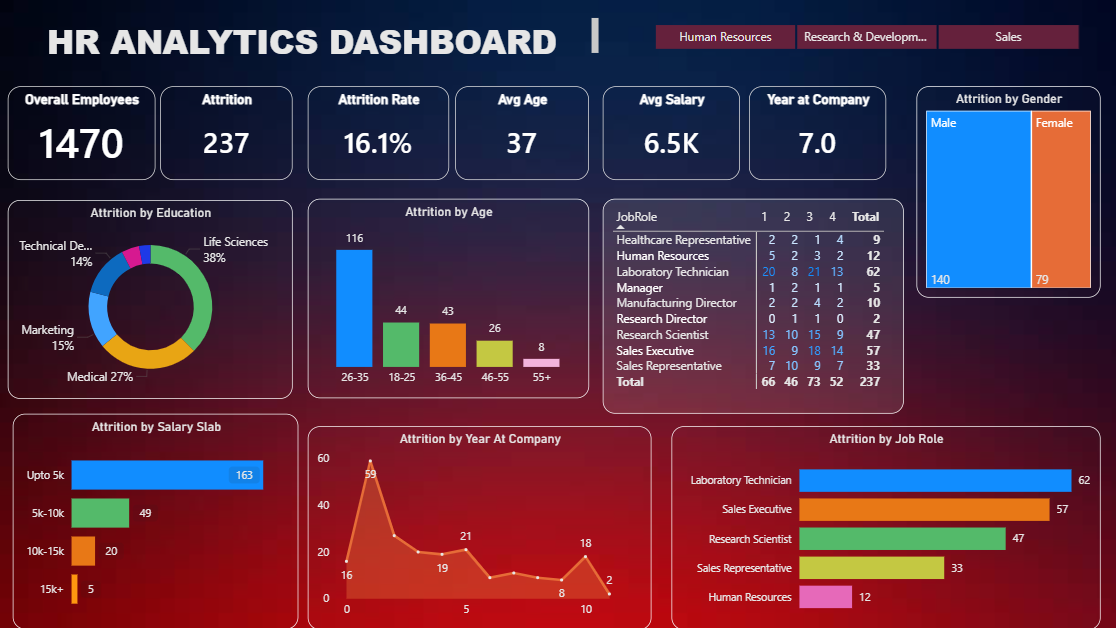

What the dashboard file says about the page in this screenshot:
{"tool":"powerbi","page":{"name":"Page 1","canvas":[1280,720],"ordinal":0},"visuals":[{"type":"cardVisual","title":"Overall Employees","fields":{"Data":["CountNonNull(HR_Analytics.EmpID)"]},"box":[10,98.6,168.6,107.1],"z":0},{"type":"cardVisual","title":"Attrition","fields":{"Data":["Sum(HR_Analytics.Attrition Count)"]},"box":[184.3,98.6,151.4,107.1],"z":1000},{"type":"cardVisual","title":"Avg Age","fields":{"Data":["Avg(HR_Analytics.Age)"]},"box":[521.4,98.6,152.9,107.1],"z":2000},{"type":"cardVisual","title":"Attrition Rate","fields":{"Data":["HR_Analytics.AttritionRate"]},"box":[352.9,98.6,161.4,107.1],"z":3000},{"type":"cardVisual","title":"Year at Company ","fields":{"Data":["Avg(HR_Analytics.YearsAtCompany)"]},"box":[857.1,98.6,157.1,107.1],"z":4000},{"type":"cardVisual","title":"Avg Salary","fields":{"Data":["Avg(HR_Analytics.MonthlyIncome)"]},"box":[690,98.6,157.1,107.1],"z":5000},{"type":"donutChart","title":"Attrition by Education","fields":{"Category":["HR_Analytics.EducationField"],"Y":["Sum(HR_Analytics.Attrition Count)"]},"box":[10,228.6,325.7,227.1],"z":6000},{"type":"columnChart","title":"Attrition by Age","fields":{"Category":["HR_Analytics.AgeGroup"],"Y":["Sum(HR_Analytics.Attrition Count)"]},"box":[353.3,226.7,321.3,228],"z":7000},{"type":"pivotTable","fields":{"Rows":["HR_Analytics.JobRole"],"Columns":["HR_Analytics.JobSatisfaction"],"Values":["Sum(HR_Analytics.Attrition Count)"]},"box":[690,227.1,344.3,245.7],"z":8000},{"type":"barChart","title":"Attrition by Salary Slab","fields":{"Category":["HR_Analytics.SalarySlab"],"Y":["Sum(HR_Analytics.Attrition Count)"]},"box":[15,473.3,326.7,246.7],"z":9000},{"type":"barChart","title":"Attrition by Job Role ","fields":{"Category":["HR_Analytics.JobRole"],"Y":["Sum(HR_Analytics.Attrition Count)"]},"box":[768.6,487.1,490,232.9],"z":10000},{"type":"areaChart","title":"Attrition by Year At Company ","fields":{"Category":["HR_Analytics.YearsAtCompany"],"Y":["Sum(HR_Analytics.Attrition Count)"]},"box":[352.9,487.1,392.9,232.9],"z":11000},{"type":"treemap","title":"Attrition by Gender","fields":{"Group":["HR_Analytics.Gender"],"Values":["Sum(HR_Analytics.Attrition Count)"]},"box":[1048.3,98.3,210,241.7],"z":12000},{"type":"slicer","fields":{"Values":["HR_Analytics.Department"]},"box":[725,21.7,533.3,41.7],"z":13000},{"type":"textbox","box":[10,15.7,680,55.7],"z":14000}]}

Visuals, with their boxes in screenshot pixels (x1, y1, x2, y2), scaled from the page's 1280x720 canvas onto the 1116x628 screenshot:
"Overall Employees" cardVisual: [9,86,156,179]
"Attrition" cardVisual: [161,86,293,179]
"Avg Age" cardVisual: [455,86,588,179]
"Attrition Rate" cardVisual: [308,86,448,179]
"Year at Company " cardVisual: [747,86,884,179]
"Avg Salary" cardVisual: [602,86,739,179]
"Attrition by Education" donutChart: [9,199,293,397]
"Attrition by Age" columnChart: [308,198,588,397]
pivotTable - HR_Analytics.JobRole x HR_Analytics.JobSatisfaction: [602,198,902,412]
"Attrition by Salary Slab" barChart: [13,413,298,627]
"Attrition by Job Role " barChart: [670,425,1097,627]
"Attrition by Year At Company " areaChart: [308,425,650,627]
"Attrition by Gender" treemap: [914,86,1097,297]
slicer - HR_Analytics.Department: [632,19,1097,55]
textbox: [9,14,602,62]
